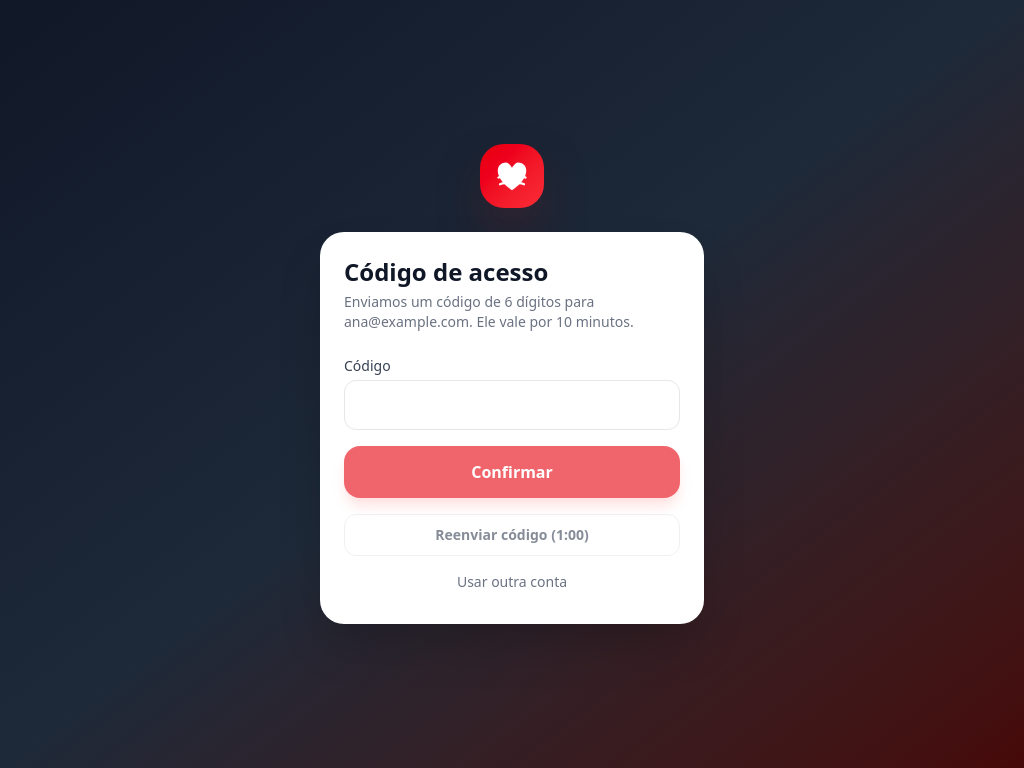
Test: EmailCodePage › o código errado mostra o erro
Type "000000" into the field labelled "Código". click: (512, 405)
box: [344,380,680,430]
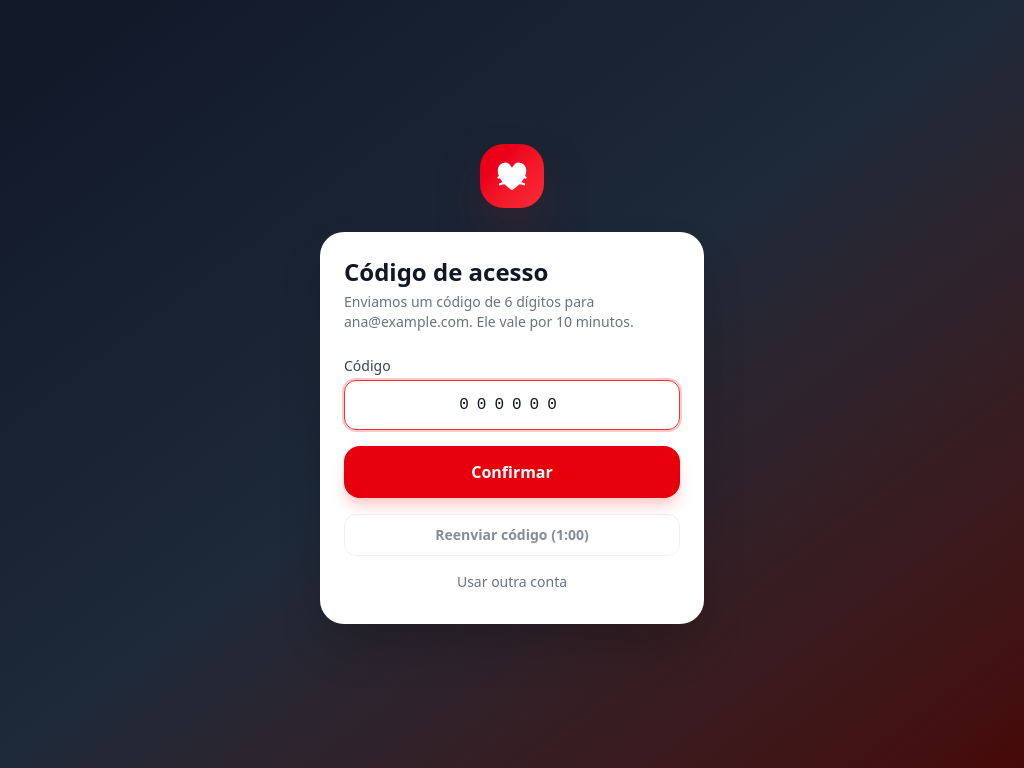
Click the button "Confirmar". click: (512, 472)
box: [344,446,680,498]
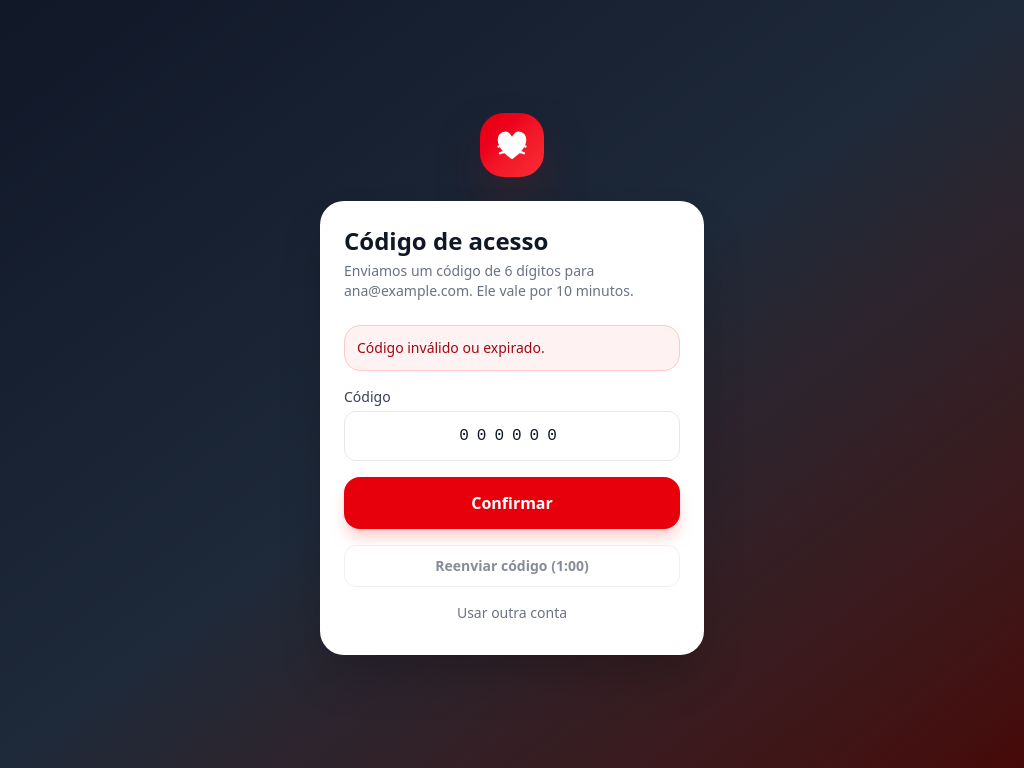
expect the text "Código inválido ou expirado." is shown: met, box [344,325,680,371]
